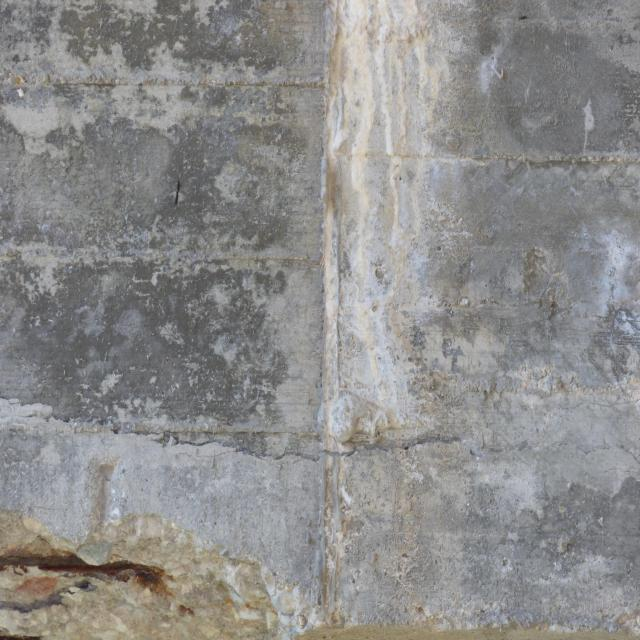Rebar: (0, 506, 330, 639), (174, 180, 181, 205)
horizontal crack: (0, 396, 640, 468)
